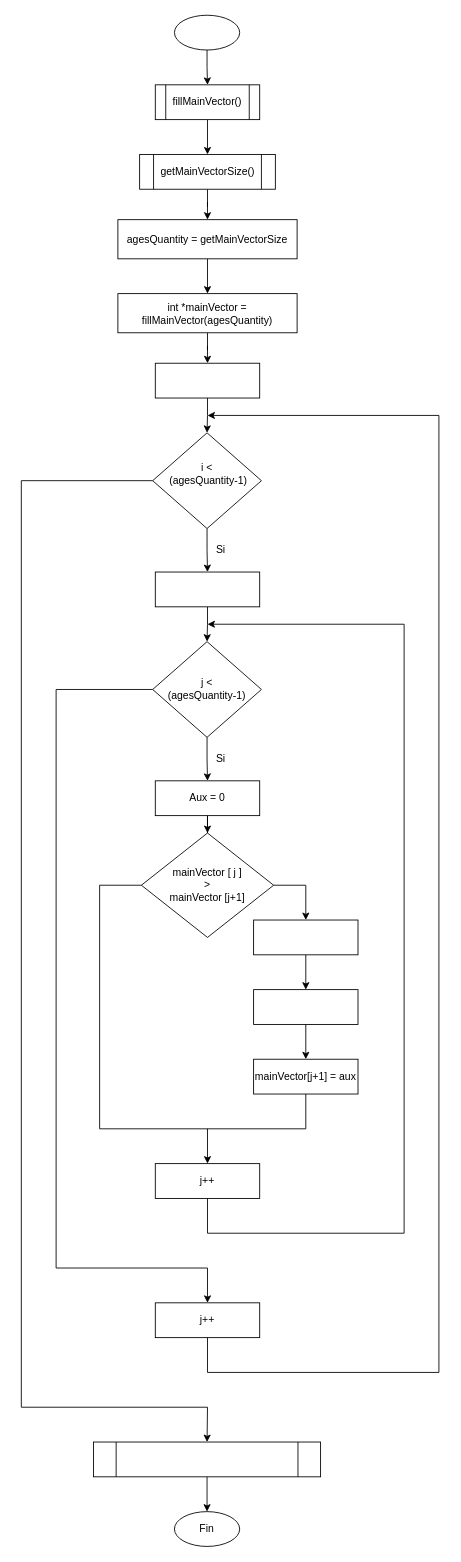
This 461x1562 diagram has some shape labels left out. The centre of each missing label's shape, as x and y in pixels:
"Aux = mainVector[j+1]" goes at point (305, 937).
"getVectorAges(mainVector[], agesQuality, orderAscMsg)" goes at point (207, 1459).
"Inicio" goes at point (207, 32).
"int i = 0" goes at point (207, 380).
"int j = 0" goes at point (207, 589).
"mainVector[j] = mainVector[j+1]" goes at point (305, 1006).
